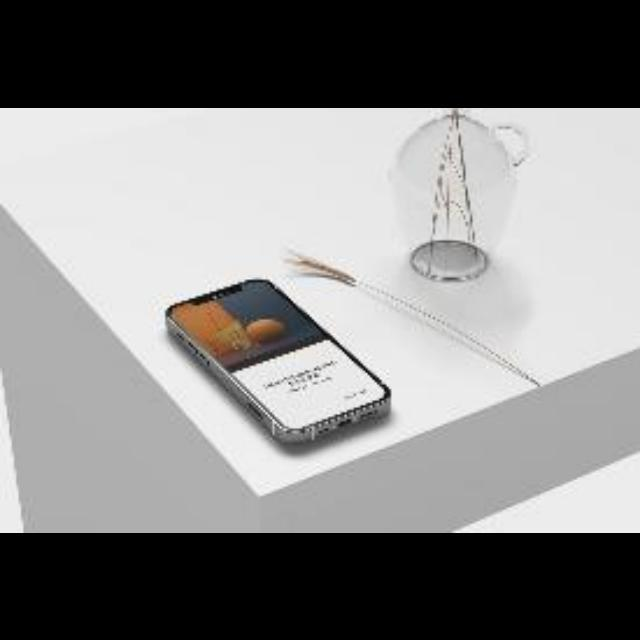PhoneUse: (163, 279, 391, 446)
